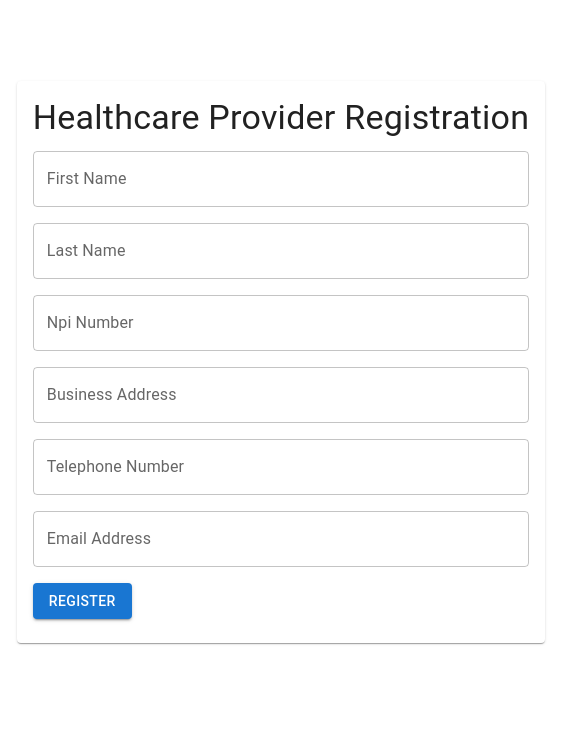
Test case: Component RegistrationForm › should validate that all fields are required before submitting
This screenshot has width=563, height=731.
Click the button "Register" at (82, 601), box 33,583 -> 132,619
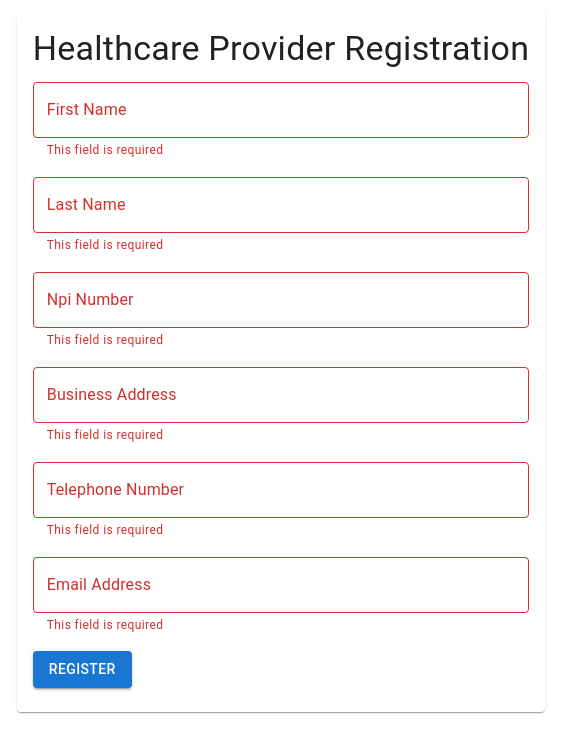
Result: the text "This field is required" is shown 6 times at 47,143 -> 163,157; 47,238 -> 163,252; 47,333 -> 163,347; 47,428 -> 163,442; 47,523 -> 163,537; 47,618 -> 163,632
